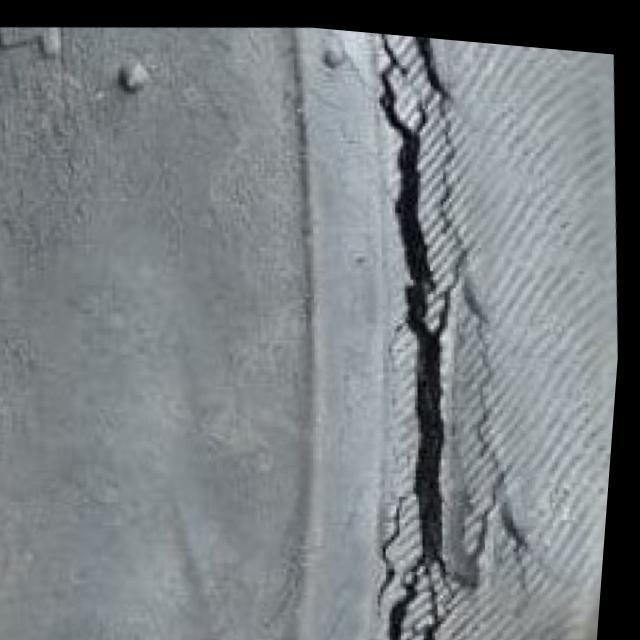Cracks: (358, 47, 545, 639)
Flat spots: (0, 47, 325, 640)
